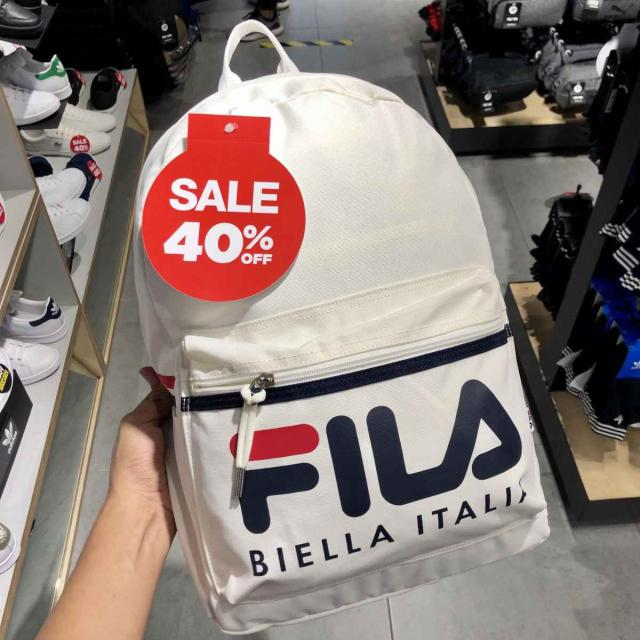Handbag: (136, 63, 524, 638)
